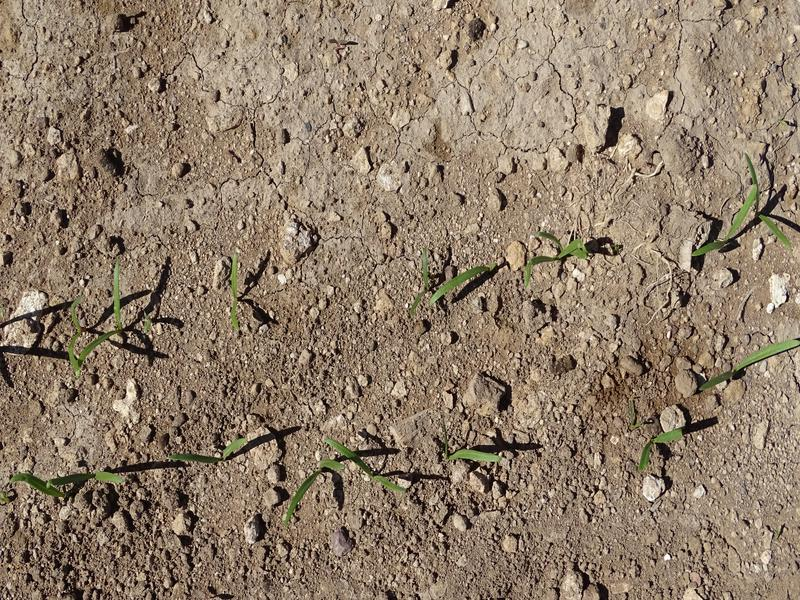Espinaca: (285, 436, 411, 529), (692, 158, 792, 257), (66, 259, 129, 374), (697, 328, 797, 394), (409, 248, 497, 308), (505, 226, 587, 285), (13, 466, 129, 499), (436, 429, 503, 468), (220, 254, 249, 334), (170, 437, 252, 465)
